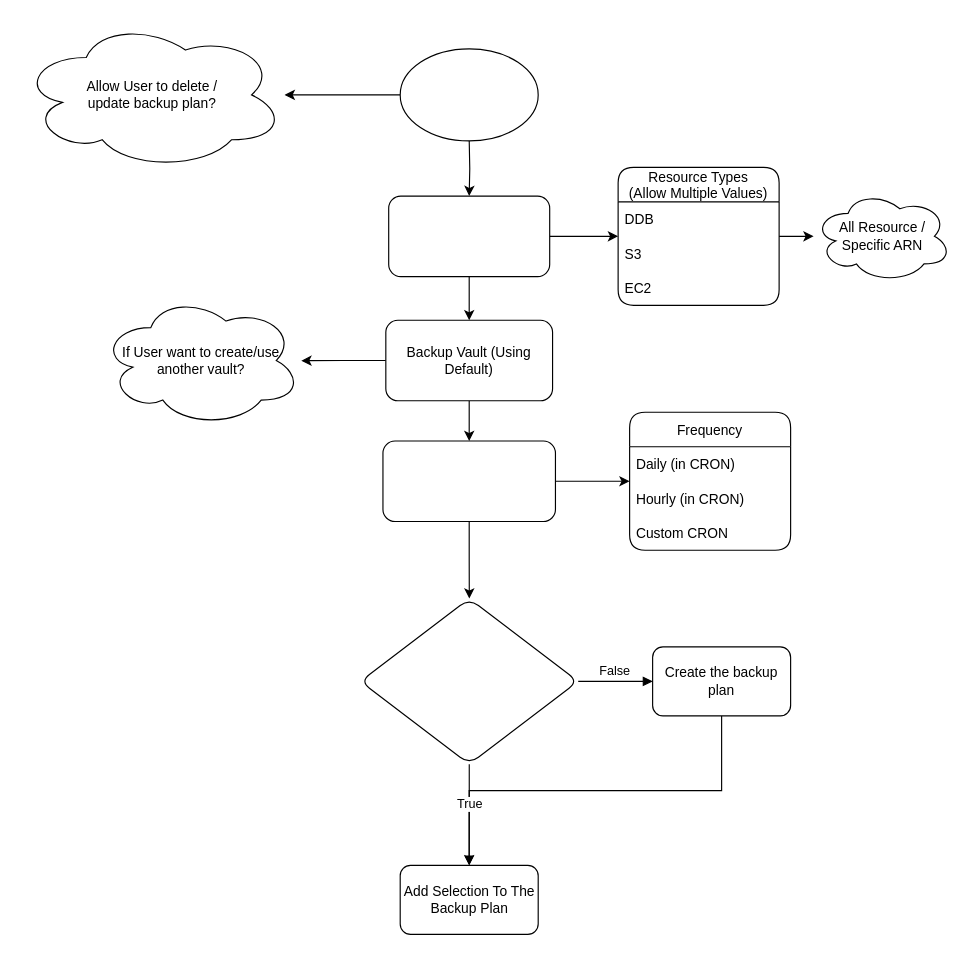
Some shapes in this 972 by 955 pixel diagram are drawn without their labels. The centre of each missing label's shape, as x and y in pixels:
AWS Backup on Amazon Lex: point (468, 94)
Backup Frequency?: point (468, 481)
Check if "Lex-<BackUpFrequency>-backups" exists?: point (468, 680)
Which AWS Resource you want to protect?: point (469, 236)
